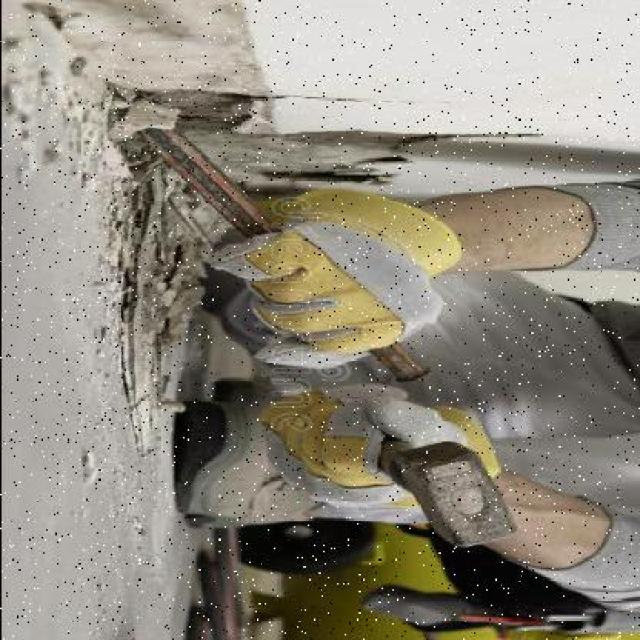shoes: (169, 423, 325, 545)
